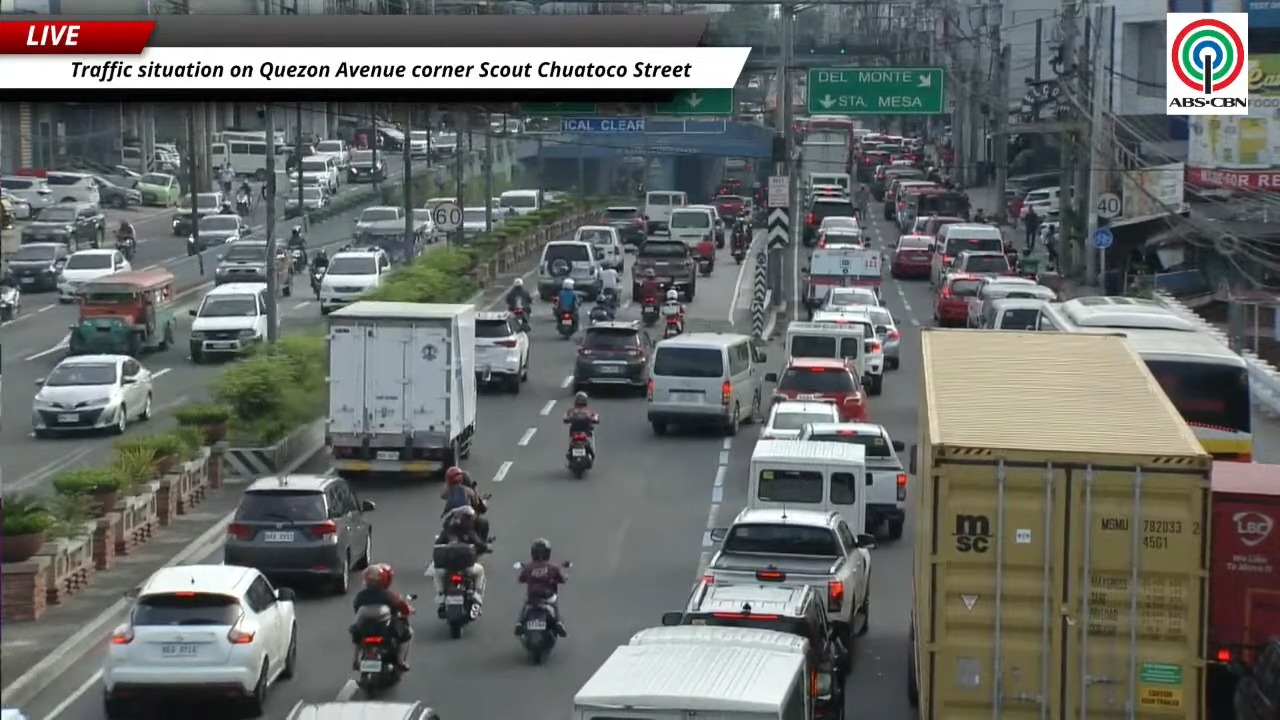bus: (1040, 296, 1253, 461), (210, 140, 267, 180), (210, 129, 266, 142)
car: (101, 564, 297, 719), (662, 571, 850, 717), (223, 473, 375, 593), (798, 423, 907, 538), (33, 354, 152, 437), (813, 306, 886, 395), (765, 358, 867, 421), (189, 283, 267, 363), (573, 320, 653, 391), (930, 222, 1003, 287), (319, 248, 390, 314), (967, 276, 1056, 327), (475, 311, 529, 393), (214, 240, 291, 295), (20, 202, 105, 251), (632, 238, 696, 301), (57, 248, 131, 302), (537, 240, 601, 300), (895, 181, 966, 232), (760, 400, 839, 439), (7, 242, 69, 291), (285, 700, 440, 719), (186, 213, 251, 255), (573, 225, 625, 274), (171, 191, 227, 236), (860, 306, 900, 369), (803, 196, 854, 245), (883, 179, 935, 226), (976, 297, 1050, 330), (934, 273, 980, 326), (668, 205, 721, 246), (0, 175, 55, 214), (291, 154, 341, 193), (45, 171, 101, 205), (890, 234, 933, 278), (601, 207, 647, 247), (88, 175, 141, 208), (353, 206, 403, 240), (947, 250, 1012, 275), (135, 172, 181, 207), (820, 286, 880, 310), (285, 186, 329, 218), (345, 149, 385, 183), (461, 206, 503, 237), (917, 215, 967, 239), (1022, 185, 1059, 217), (314, 139, 352, 169), (816, 226, 866, 248), (0, 192, 33, 222), (412, 208, 438, 242), (711, 194, 746, 217), (431, 131, 457, 157), (818, 216, 860, 232), (408, 130, 430, 158), (0, 708, 28, 719)
motorcycle: (351, 606, 402, 698), (433, 547, 481, 638), (520, 596, 558, 663), (566, 432, 593, 478), (0, 284, 20, 321), (511, 298, 530, 332), (588, 300, 614, 323), (116, 233, 136, 261), (557, 311, 577, 339), (641, 298, 659, 327), (310, 265, 325, 299), (290, 246, 307, 273), (597, 288, 618, 309), (663, 315, 682, 338), (236, 193, 251, 216), (732, 240, 746, 264), (697, 257, 713, 276)
truck: (907, 330, 1211, 719), (700, 495, 874, 651), (326, 301, 476, 476), (572, 626, 828, 719), (1207, 461, 1279, 708), (801, 245, 882, 309), (800, 129, 851, 191)
